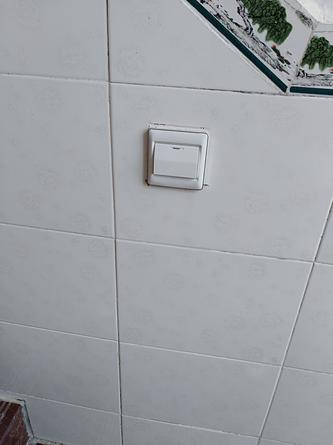switch: (152, 139, 204, 183)
